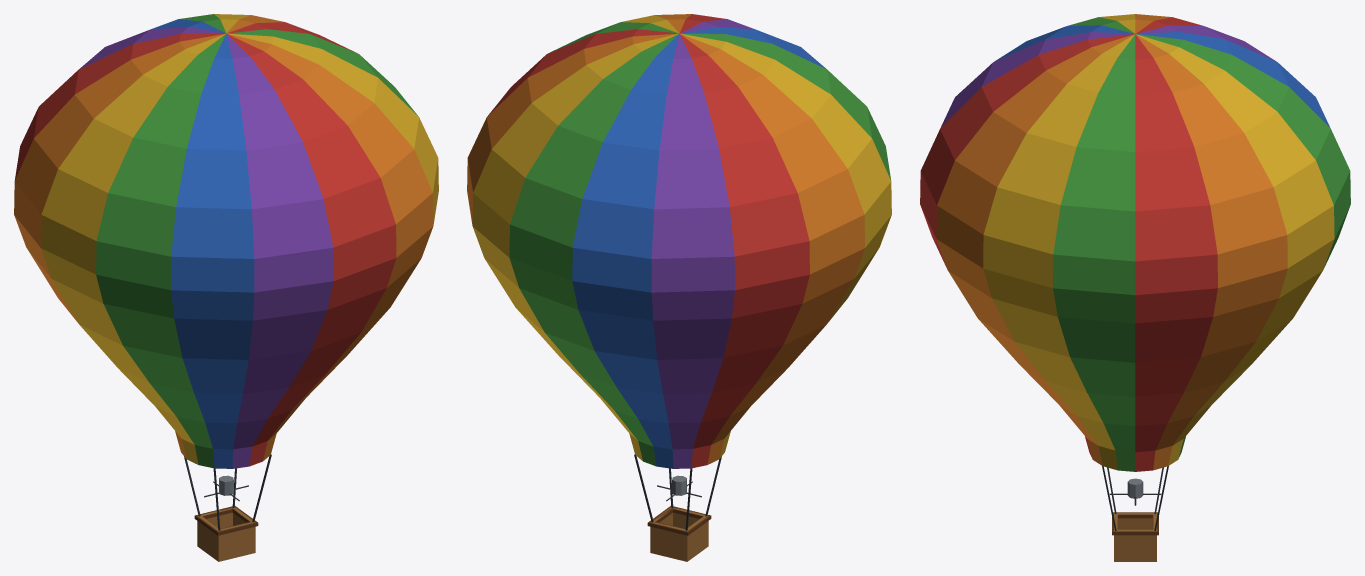
Rendered from hotair-rainbow.glb.
The picture shows the model from 3 angles, left to right: view 1: azimuth 30°, elevation 25°; view 2: azimuth 150°, elevation 25°; view 3: azimuth 270°, elevation 25°; orthographic projection.
Visible parts, largest first — view 1: hotair-rainbow; view 2: hotair-rainbow; view 3: hotair-rainbow.
Part boxes in pixels (left/top/right/bottom): hotair-rainbow: left=14, top=14, right=438, bottom=561; hotair-rainbow: left=467, top=14, right=891, bottom=561; hotair-rainbow: left=920, top=14, right=1350, bottom=561.
Size of the model in its own units: 14 by 18.6 by 14.
